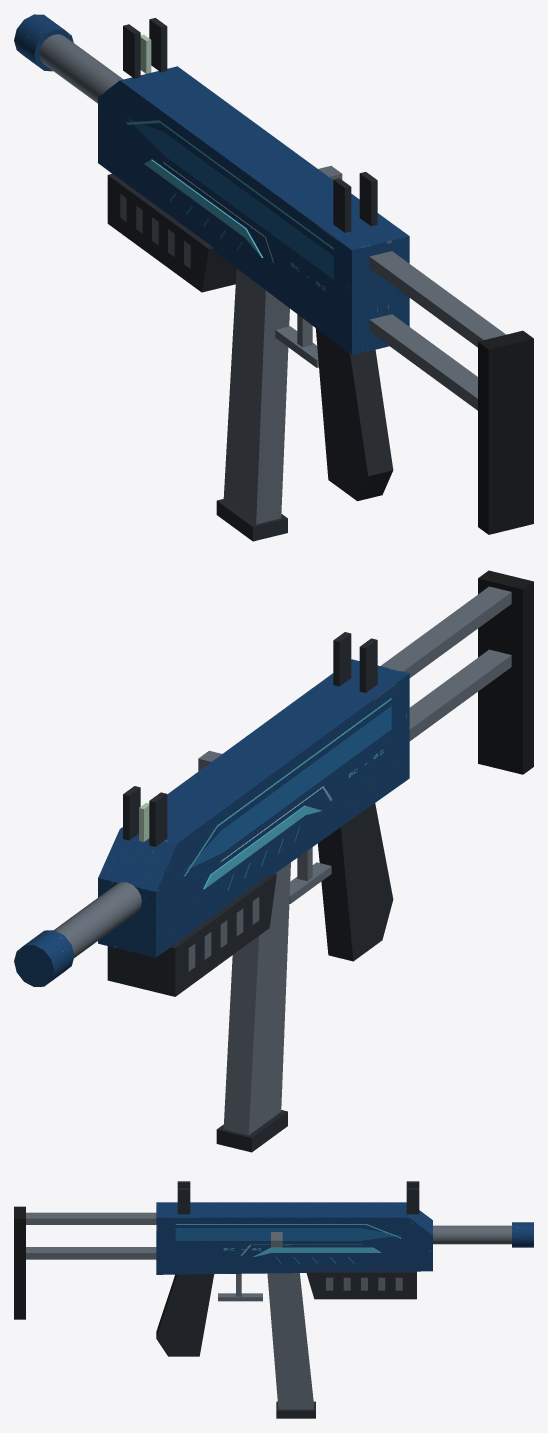
3 renders of one model, top to bottom at view 1: azimuth 30°, elevation 25°; view 2: azimuth 150°, elevation 25°; view 3: azimuth 270°, elevation 25°, orthographic. The views are drawn at different scales.
Visible parts, largest first — view 1: smg, mag; view 2: smg, mag; view 3: smg, mag.
Boxes of the visible parts, box(x1,y1,x2,y2) form: smg: box(14, 14, 533, 534); mag: box(216, 268, 289, 541); smg: box(14, 570, 533, 996); mag: box(216, 862, 290, 1152); smg: box(14, 1181, 533, 1356); mag: box(267, 1273, 315, 1418).
Bounding box in the file's own units: 0.0803 × 0.319 × 0.658.
6 materials, 1 textured.
